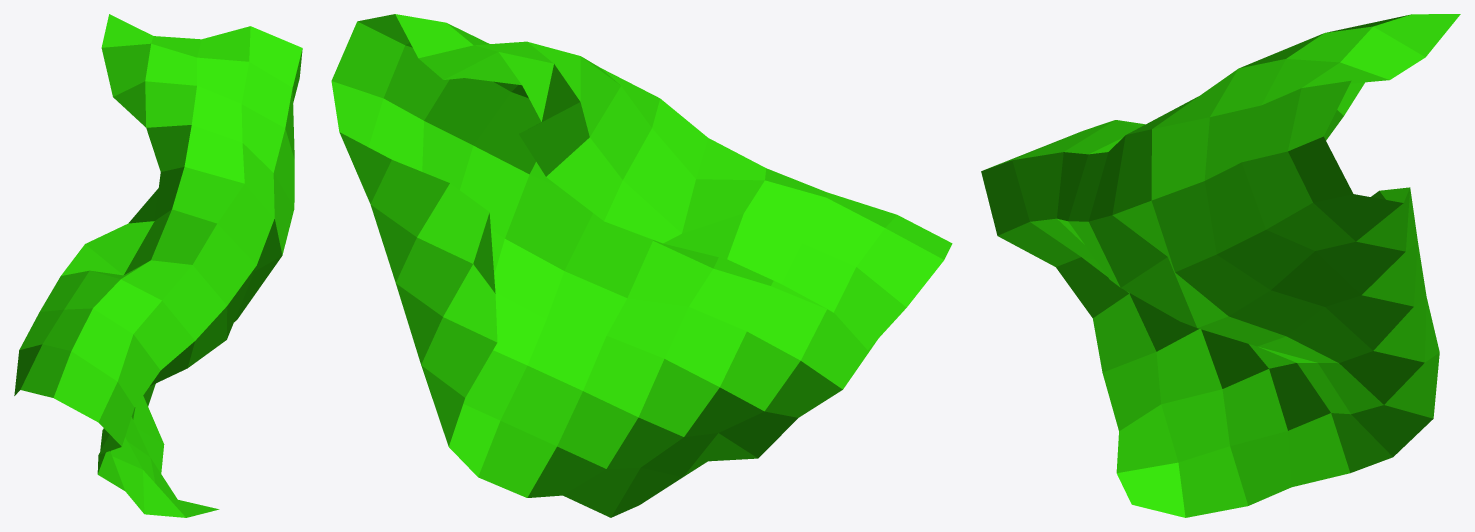
File: leaf.glb
3 views of the same model, side by side, from view 1: azimuth 30°, elevation 25°; view 2: azimuth 150°, elevation 25°; view 3: azimuth 270°, elevation 25° (orthographic). The views are drawn at different scales.
Parts seen in each view (by area): view 1: Grid; view 2: Grid; view 3: Grid.
Part boxes in pixels (box(x1,y1,x2,y2)): Grid: box(14, 14, 302, 517); Grid: box(331, 14, 952, 517); Grid: box(981, 14, 1460, 517).
Bounding box in the file's own units: 1.82 × 1.94 × 1.62.
